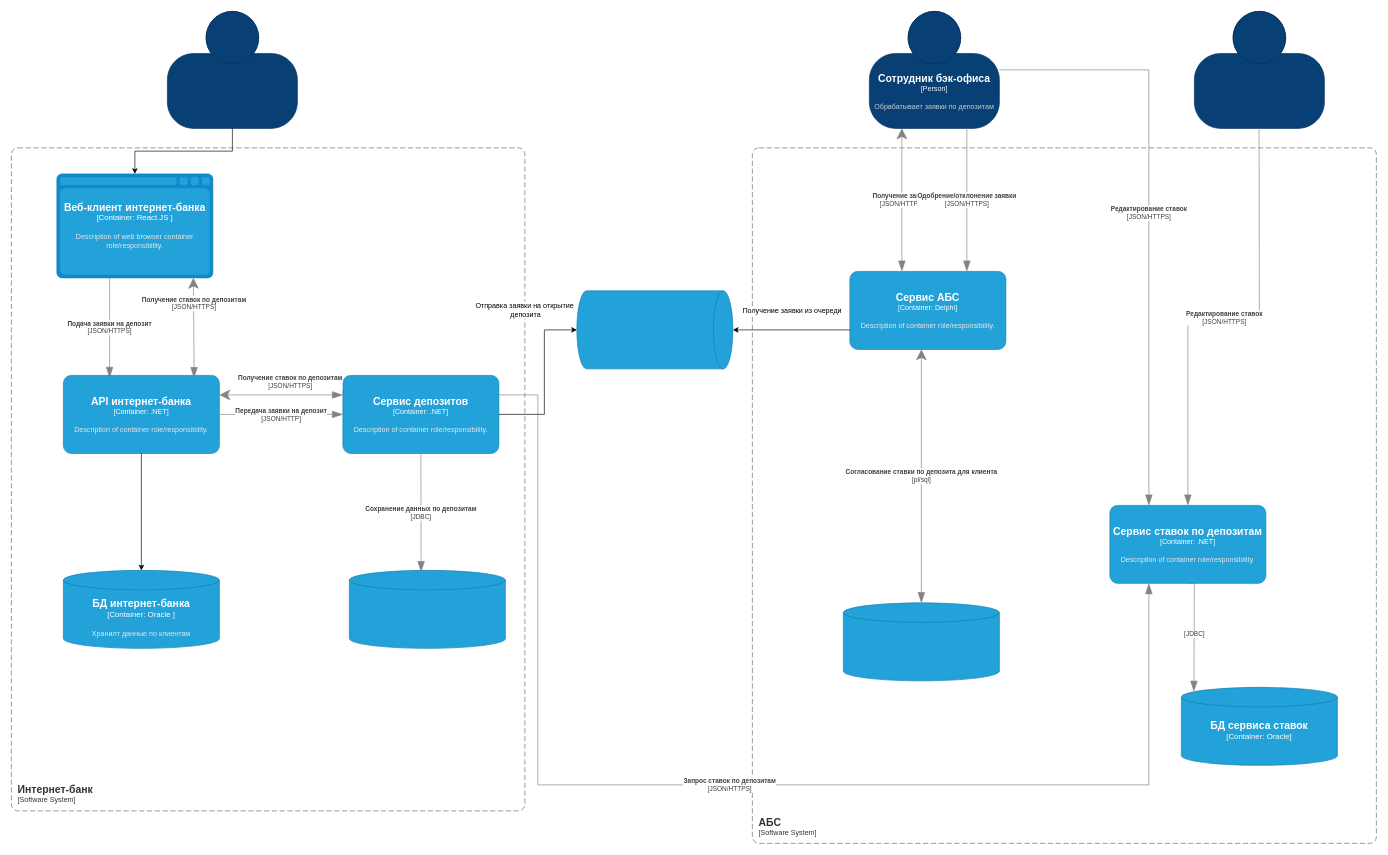
This 1388x855 diagram has some shape labels left out. Each missing label, with the centre of its shape:
"БД АБС [Container: Oracle]" goes at [921,641].
"БД депозитов [Container: Oracle ] Хранит данные по депозитам клиентов" goes at [427,609].
"Клиент [Person] Клиент банка" goes at [232,69].
"Очередь заявок [Container: Apache Kafka] Очередь заявок на октрытие депозитов" goes at [654,329].
"Сотрудник бэк-офиса [Person] Обрабатывает заявки по кредитам" goes at [1259,69].
